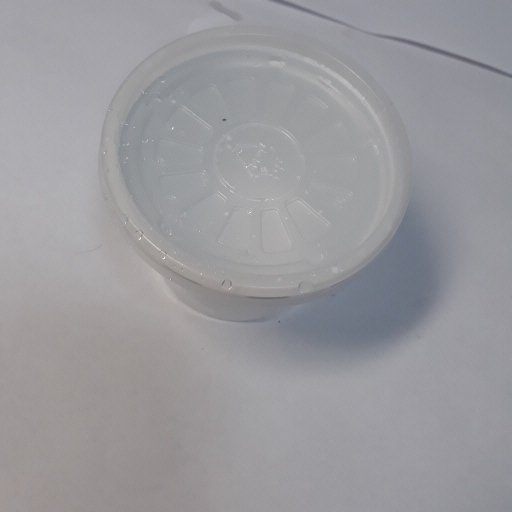Plastic_5: (98, 24, 416, 330)
